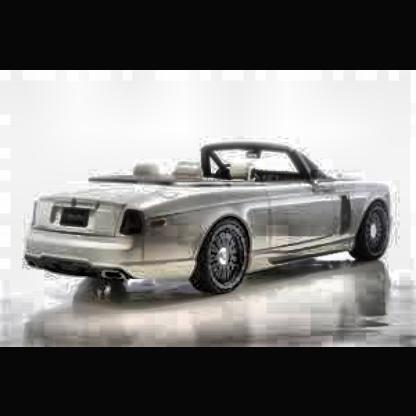Rolls-Royce Phantom Drophead Coupe Convertible 2012: (25, 147, 396, 300)
